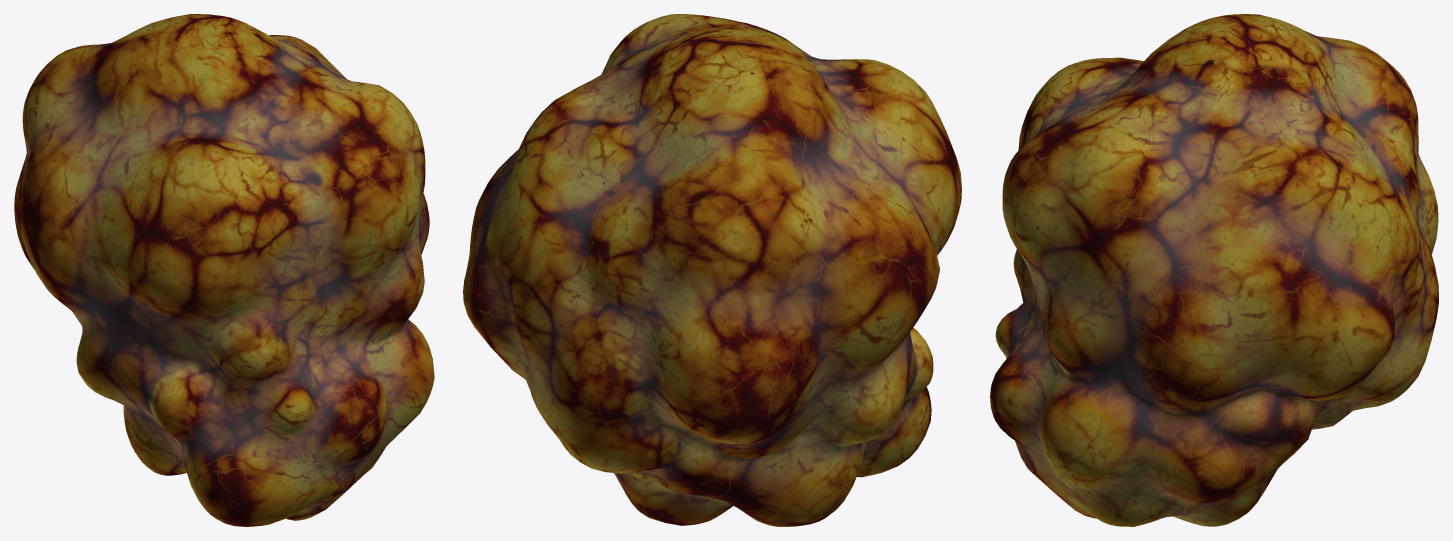
File: P_CircusballoonDamage02.fbx
The picture shows the model from 3 angles, left to right: view 1: azimuth 30°, elevation 25°; view 2: azimuth 150°, elevation 25°; view 3: azimuth 270°, elevation 25°; orthographic projection. The views are drawn at different scales.
Parts seen in each view (by area): view 1: P_CircusBalloonDamage02; view 2: P_CircusBalloonDamage02; view 3: P_CircusBalloonDamage02.
Boxes of the visible parts, left/top/right/bottom form: P_CircusBalloonDamage02: left=14, top=14, right=434, bottom=526; P_CircusBalloonDamage02: left=463, top=14, right=961, bottom=526; P_CircusBalloonDamage02: left=990, top=14, right=1438, bottom=526.
Bounding box in the file's own units: 139 × 166 × 142.
